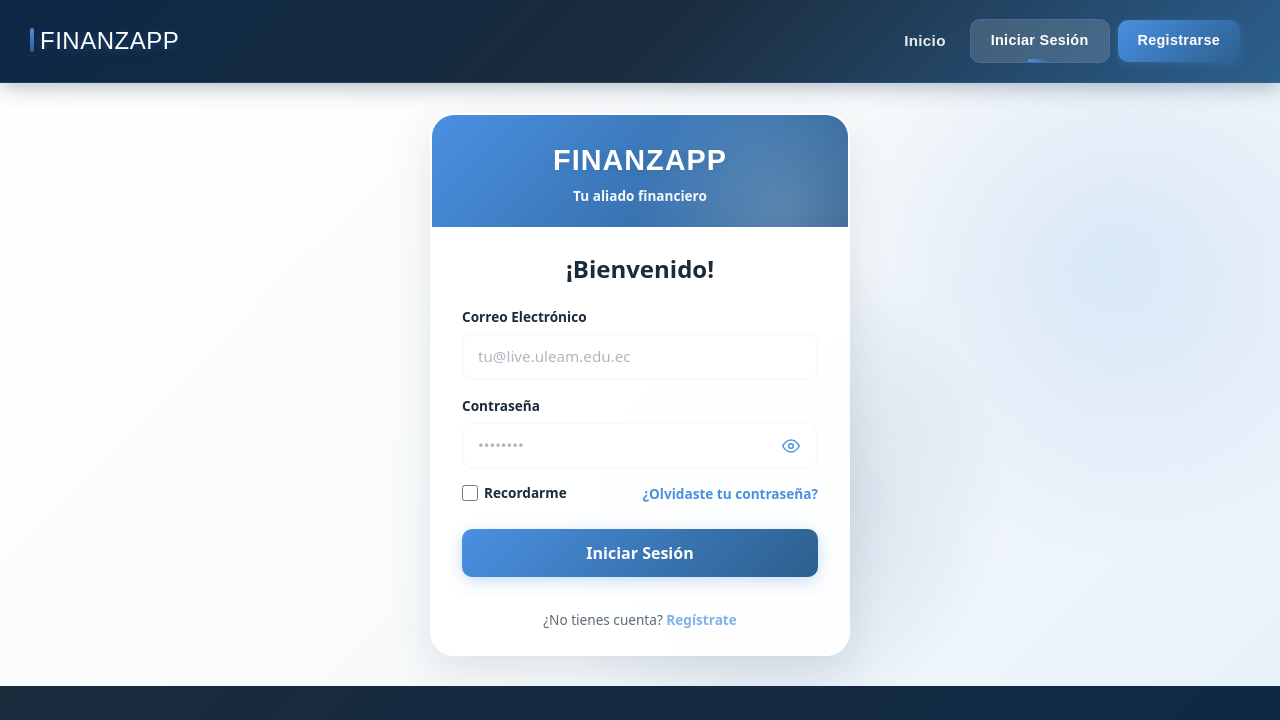
Test: Login E2E Tests › Estilos y clases CSS › Debe aplicar clase de error cuando hay error en el email
The width and height of the screenshot is (1280, 720).
Type "test@gmail.com" into the field with test id "email" at (640, 357), box [462,333,818,380]
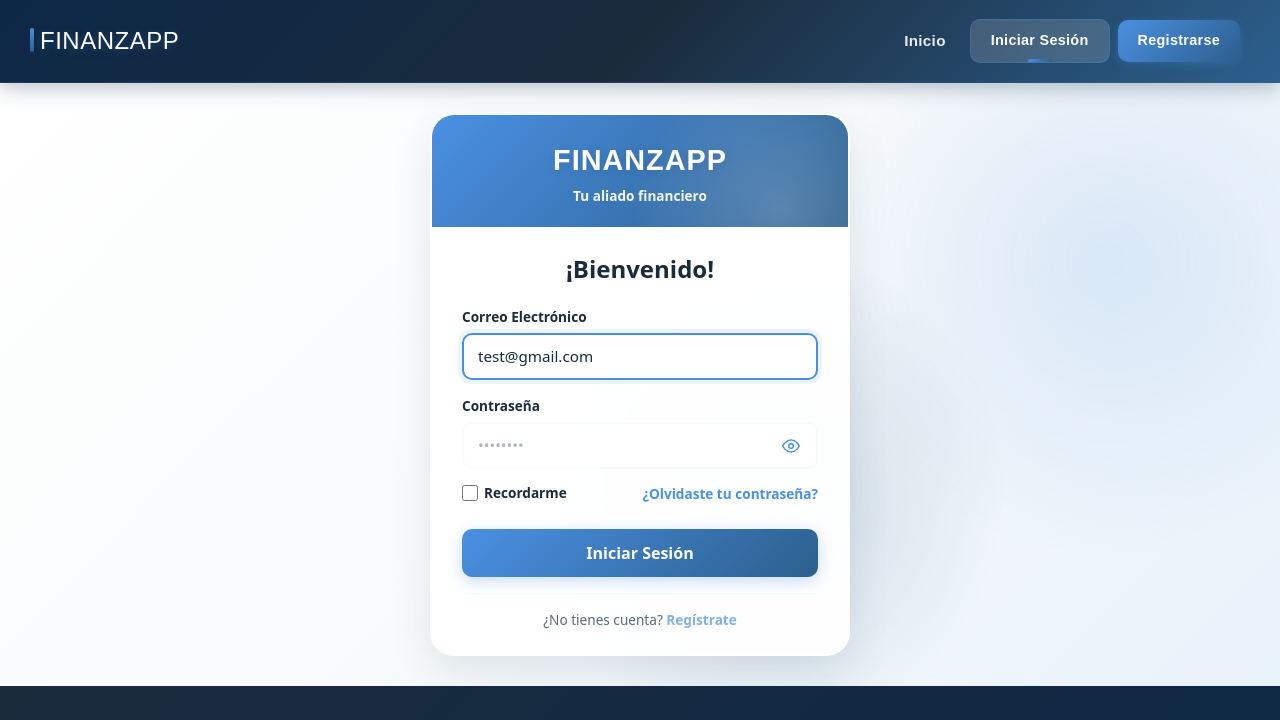
Type "TestPass123#" into the password field with test id "password" at (640, 446), box [462,422,818,469]
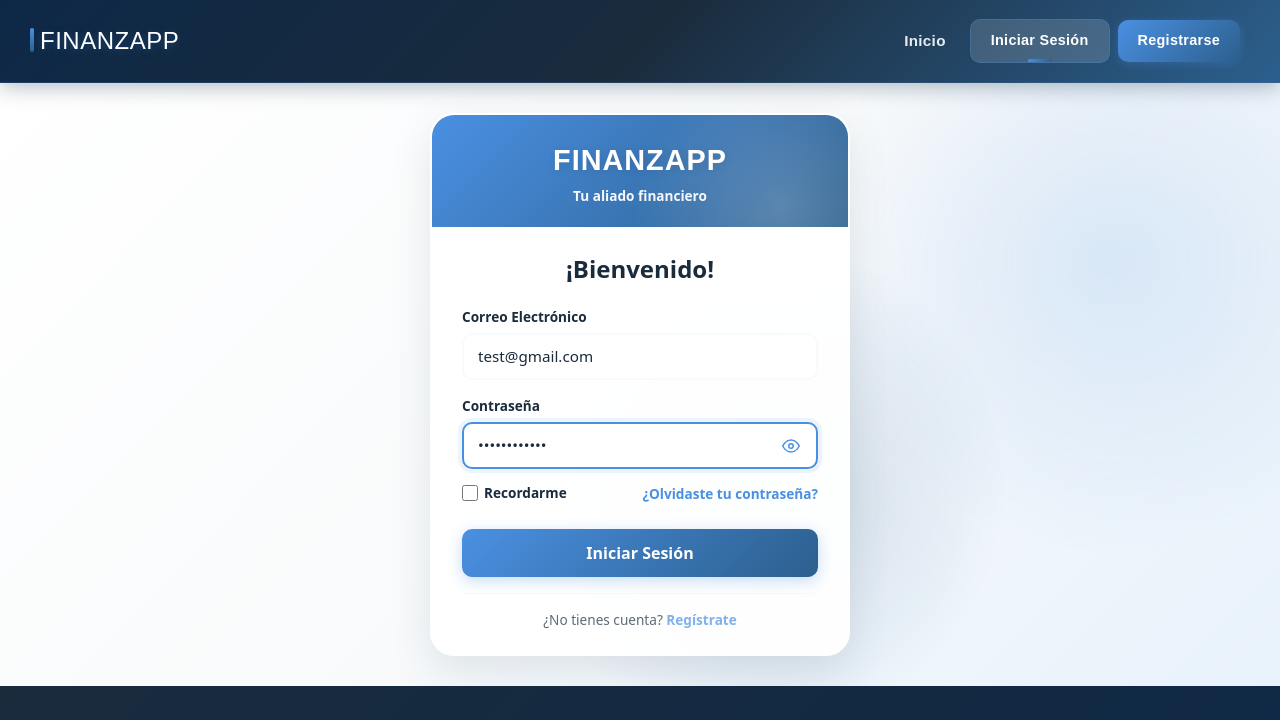
Click the button with test id "btn-login" at (640, 553), box [462,529,818,577]
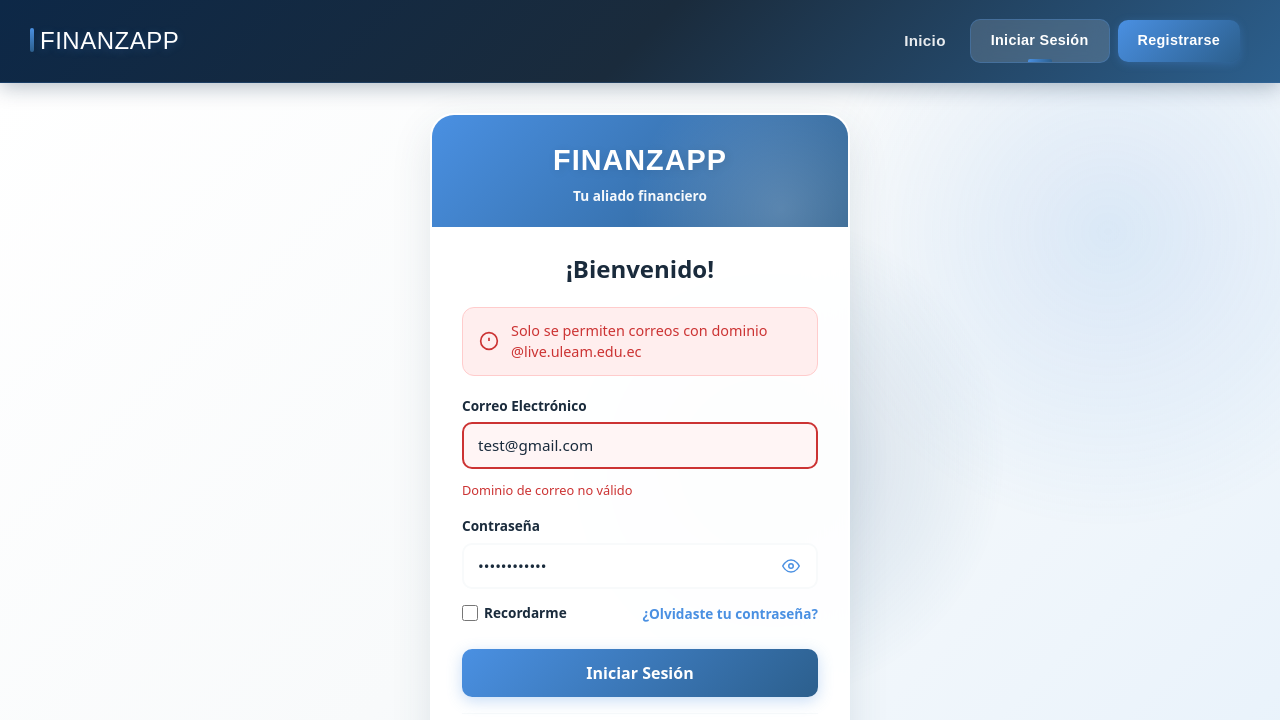
Result: the text "Dominio de correo no válido" is shown at [462,481,632,499]
